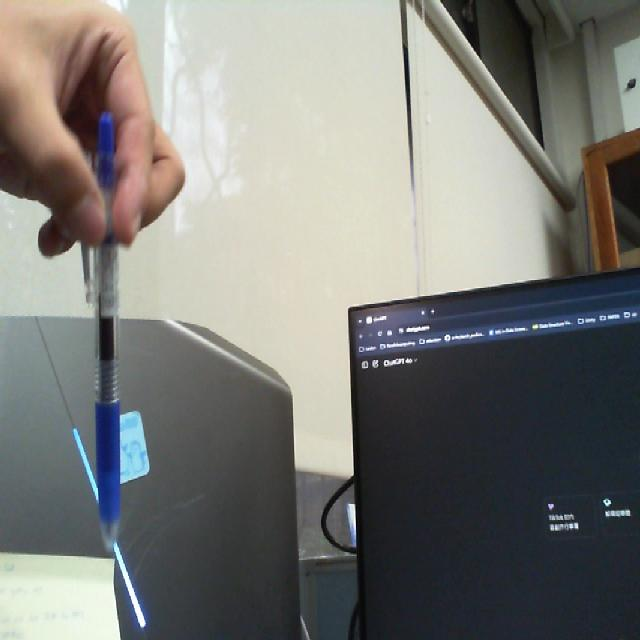Pen: (76, 97, 145, 561)
